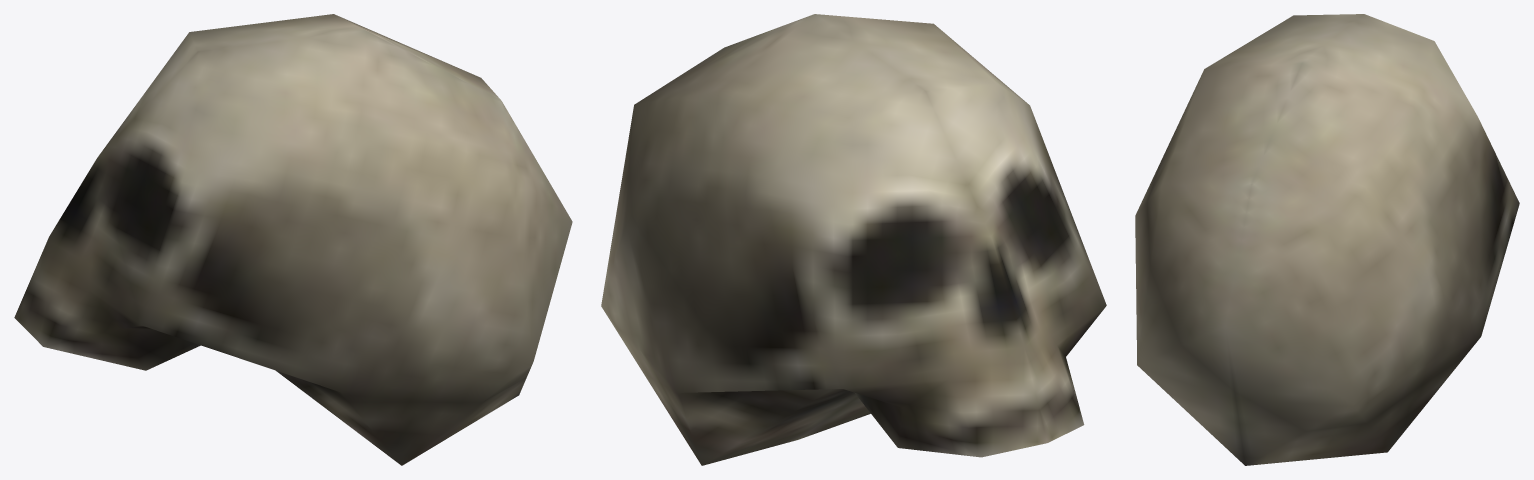
The model's file is Camp7.fbx.
The picture shows the model from 3 angles, left to right: view 1: azimuth 30°, elevation 25°; view 2: azimuth 150°, elevation 25°; view 3: azimuth 270°, elevation 25°; orthographic projection. The views are drawn at different scales.
Visible parts, largest first — view 1: Camp7; view 2: Camp7; view 3: Camp7.
Part boxes in pixels (x1,y1,x2,y2): Camp7: (14, 14, 572, 465); Camp7: (601, 14, 1106, 465); Camp7: (1135, 14, 1519, 465).
Size of the model in its own units: 5.23 by 4.4 by 4.16.
